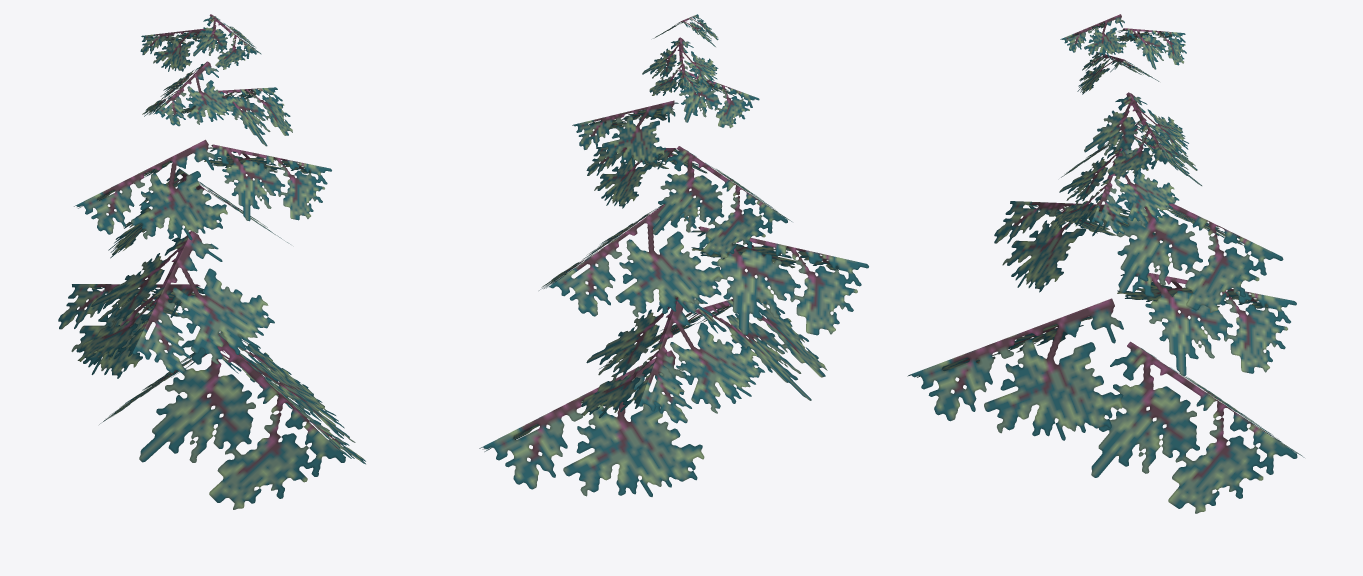
Rendered from Tree_4_extra.obj.
3 renders of one model, left to right at view 1: azimuth 30°, elevation 25°; view 2: azimuth 150°, elevation 25°; view 3: azimuth 270°, elevation 25°, orthographic. The views are drawn at different scales.
Visible parts, largest first — view 1: SpruceBranches_Plane.034; view 2: SpruceBranches_Plane.034; view 3: SpruceBranches_Plane.034.
Boxes of the visible parts, x1,y1,x2,y2 form: SpruceBranches_Plane.034: [58, 14, 365, 509]; SpruceBranches_Plane.034: [479, 14, 868, 496]; SpruceBranches_Plane.034: [907, 14, 1304, 513].
Size of the model in its own units: 15.79 by 19.75 by 17.38.
